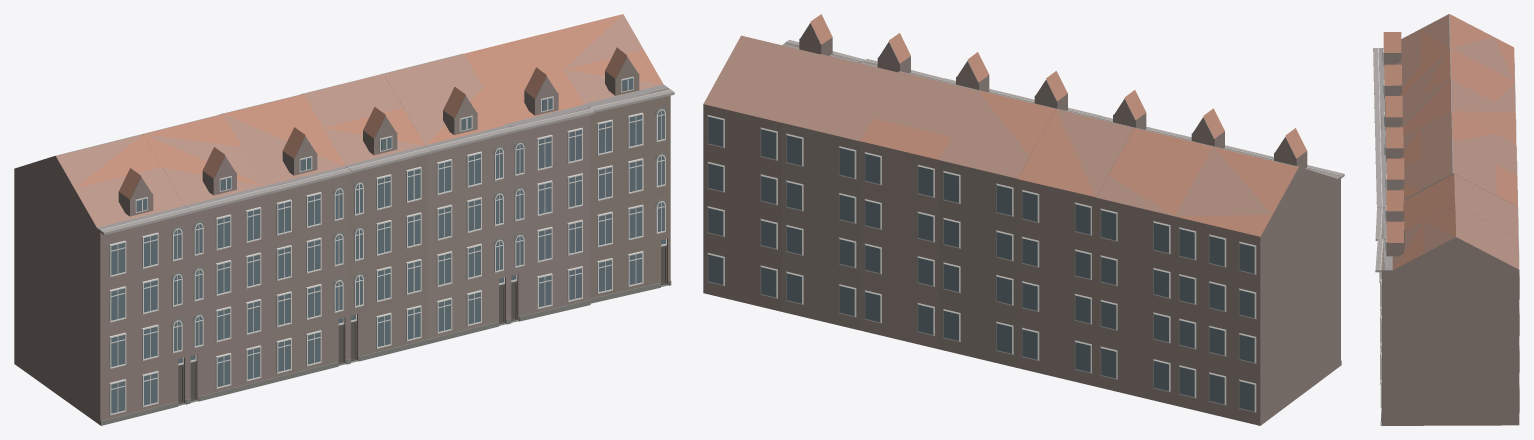
File: chunk-face-djambi-1-29-r1.glb
3 renders of one model, left to right at view 1: azimuth 30°, elevation 25°; view 2: azimuth 150°, elevation 25°; view 3: azimuth 270°, elevation 25°, orthographic. The views are drawn at different scales.
Parts seen in each view (by area): view 1: face-djambi-1-29-r1; view 2: face-djambi-1-29-r1; view 3: face-djambi-1-29-r1.
Boxes of the visible parts, x1,y1,x2,y2 form: face-djambi-1-29-r1: (14,14,674,425); face-djambi-1-29-r1: (703,14,1344,425); face-djambi-1-29-r1: (1373,14,1519,425).
Size of the model in its own units: 39.1 by 15.5 by 10.87.
